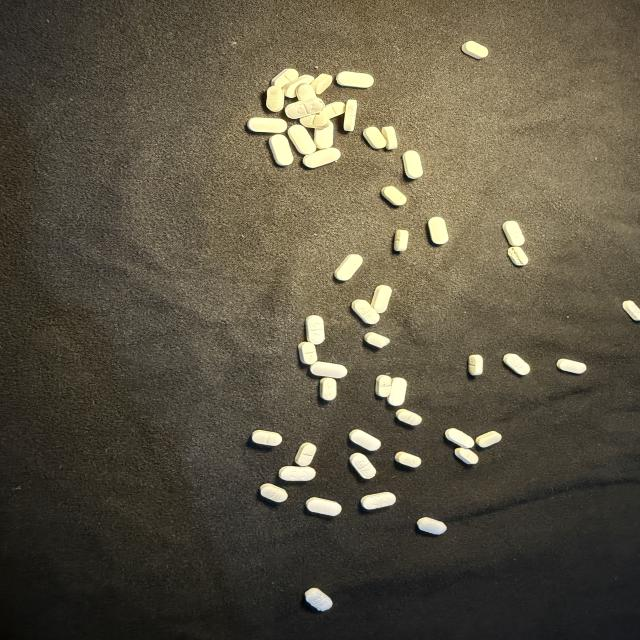pill: (285, 98, 324, 119), (288, 125, 316, 154), (269, 134, 293, 166), (303, 148, 340, 168), (334, 255, 363, 280), (283, 75, 314, 98), (349, 429, 381, 451), (350, 453, 376, 479), (306, 497, 341, 516), (352, 300, 379, 324), (427, 216, 449, 245), (361, 492, 396, 510), (310, 361, 347, 378), (305, 588, 332, 611), (336, 72, 373, 88), (403, 150, 423, 179), (248, 118, 286, 133), (314, 121, 334, 149), (372, 285, 392, 313), (306, 315, 325, 344), (445, 429, 474, 448), (504, 354, 530, 375), (279, 466, 315, 481), (387, 378, 406, 406), (260, 483, 288, 502), (503, 221, 524, 246), (271, 68, 298, 87), (363, 127, 386, 149), (381, 186, 406, 206), (417, 517, 446, 534), (295, 443, 316, 466), (252, 430, 282, 446), (462, 41, 488, 59), (266, 86, 284, 111), (557, 359, 586, 374), (476, 431, 501, 448), (300, 113, 328, 128), (311, 74, 332, 94), (298, 342, 317, 364), (396, 409, 422, 425), (375, 374, 392, 398), (344, 100, 357, 131), (365, 332, 390, 348), (319, 377, 336, 400), (395, 452, 421, 467), (508, 247, 528, 266), (455, 448, 478, 464), (322, 102, 345, 118), (381, 127, 397, 149), (296, 84, 316, 101), (623, 300, 639, 321), (394, 230, 408, 252), (468, 355, 483, 375)
